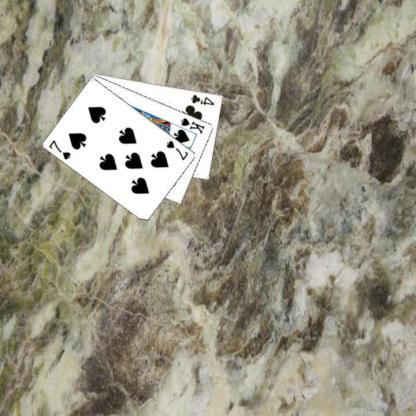4C: (189, 92, 215, 106)
7S: (164, 138, 190, 161), (46, 138, 72, 161)
KS: (179, 115, 206, 135)
